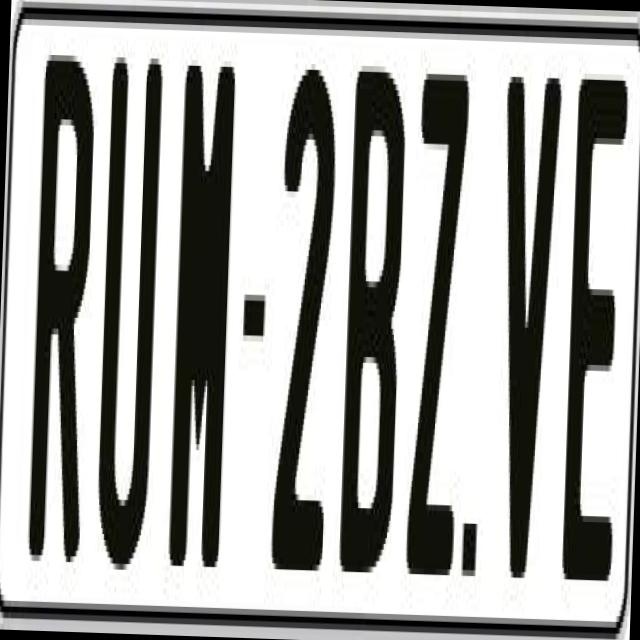2: (266, 68, 340, 570)
B: (334, 59, 403, 578)
E: (560, 61, 624, 563)
M: (167, 65, 235, 584)
R: (26, 48, 100, 591)
U: (90, 51, 166, 570)
V: (487, 70, 566, 596)
Z: (400, 61, 471, 598)
